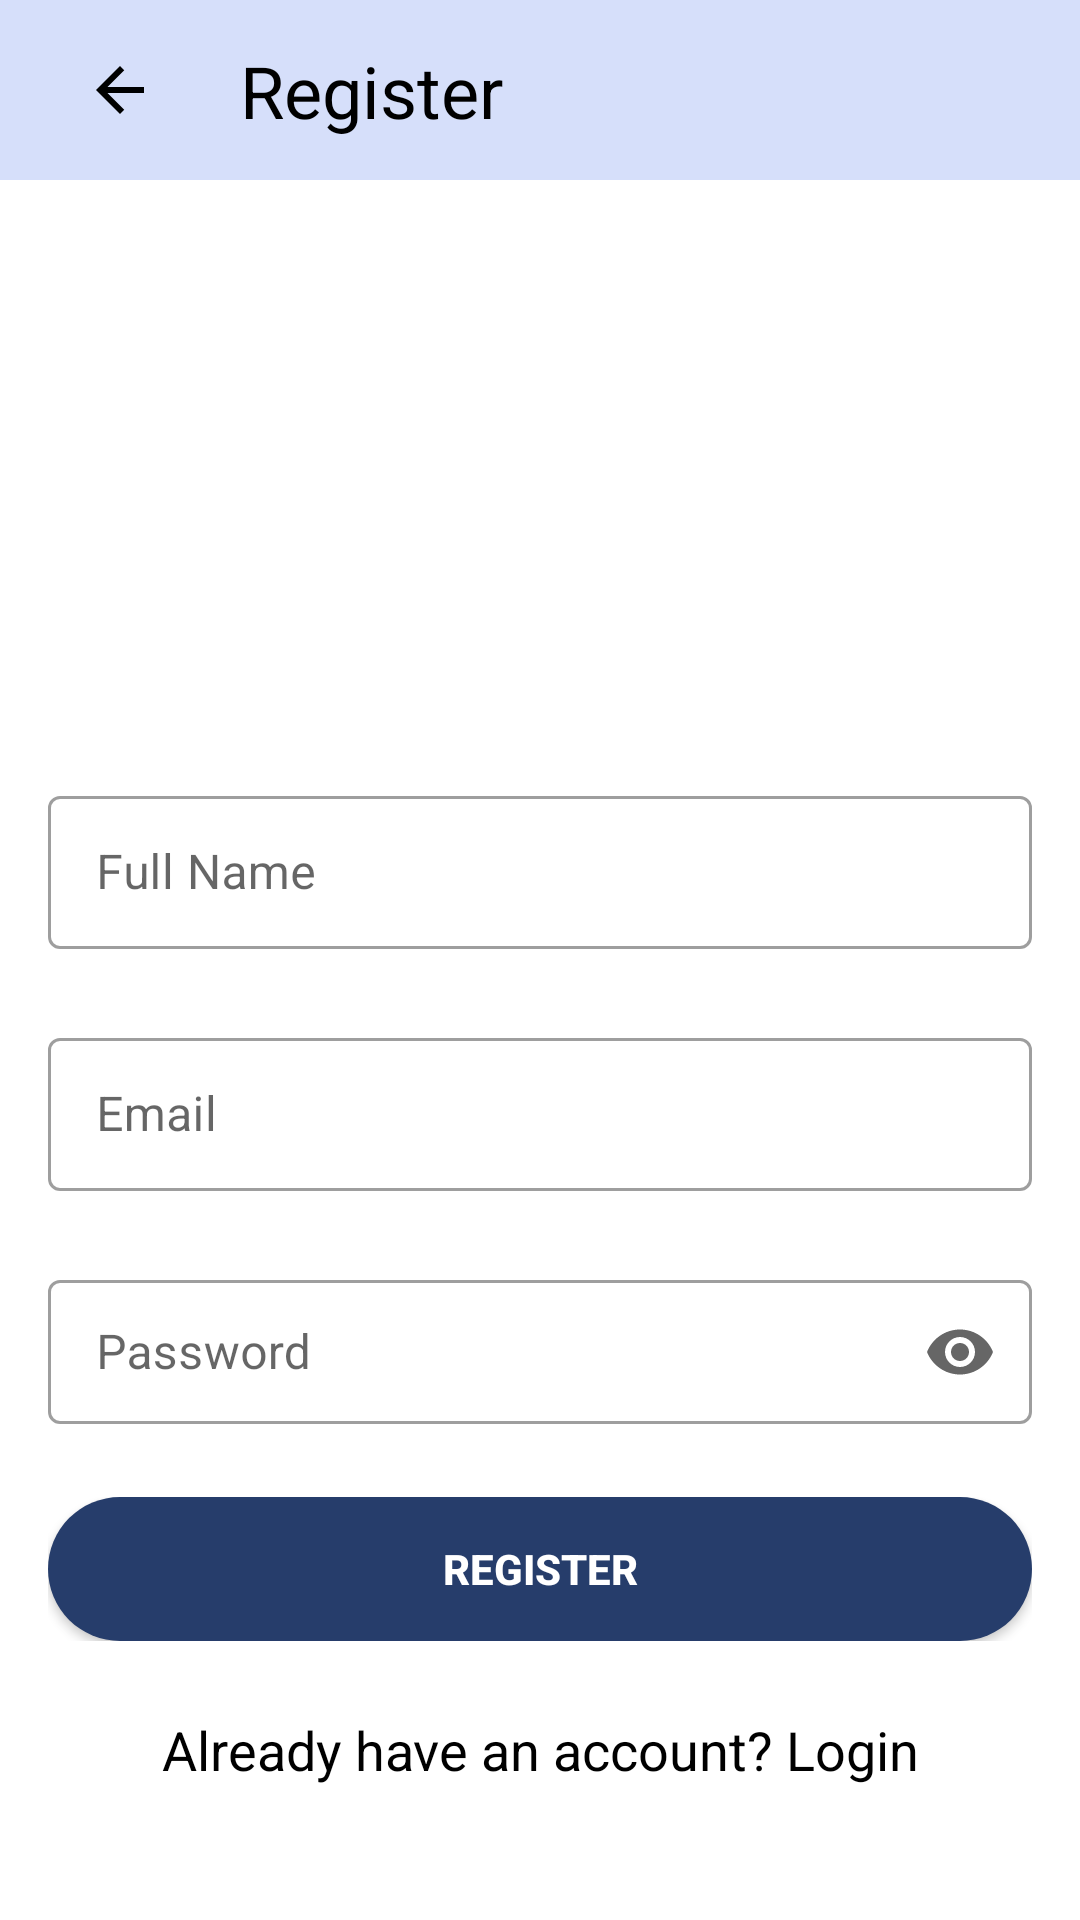

Where to tap for icons on this 1080w x 1920h app screen, as (x=x, y=y):
Back: (x=120, y=90)
